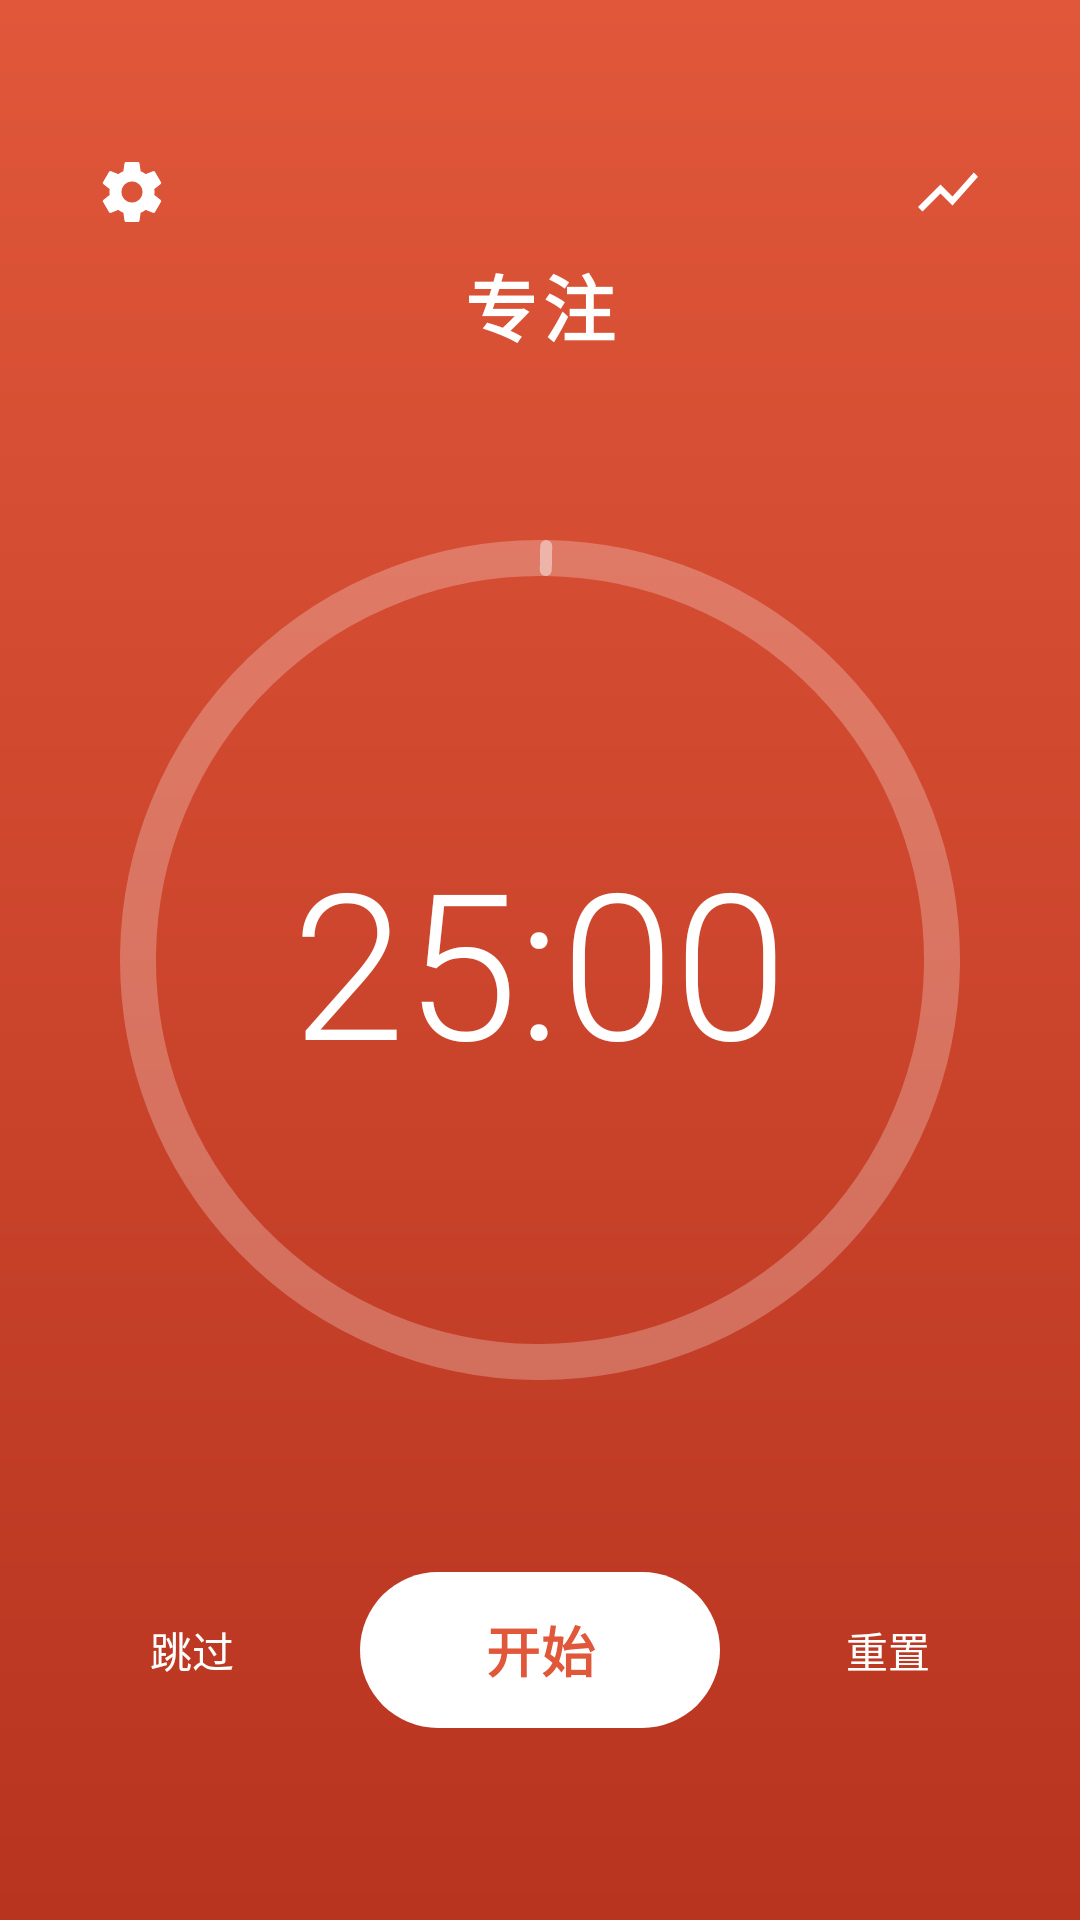

Where icons sit on this 1080 × 1920 app screen, as (x1, y1, x2, y2):
记录: (918, 172, 978, 212)
设置: (102, 162, 161, 222)
